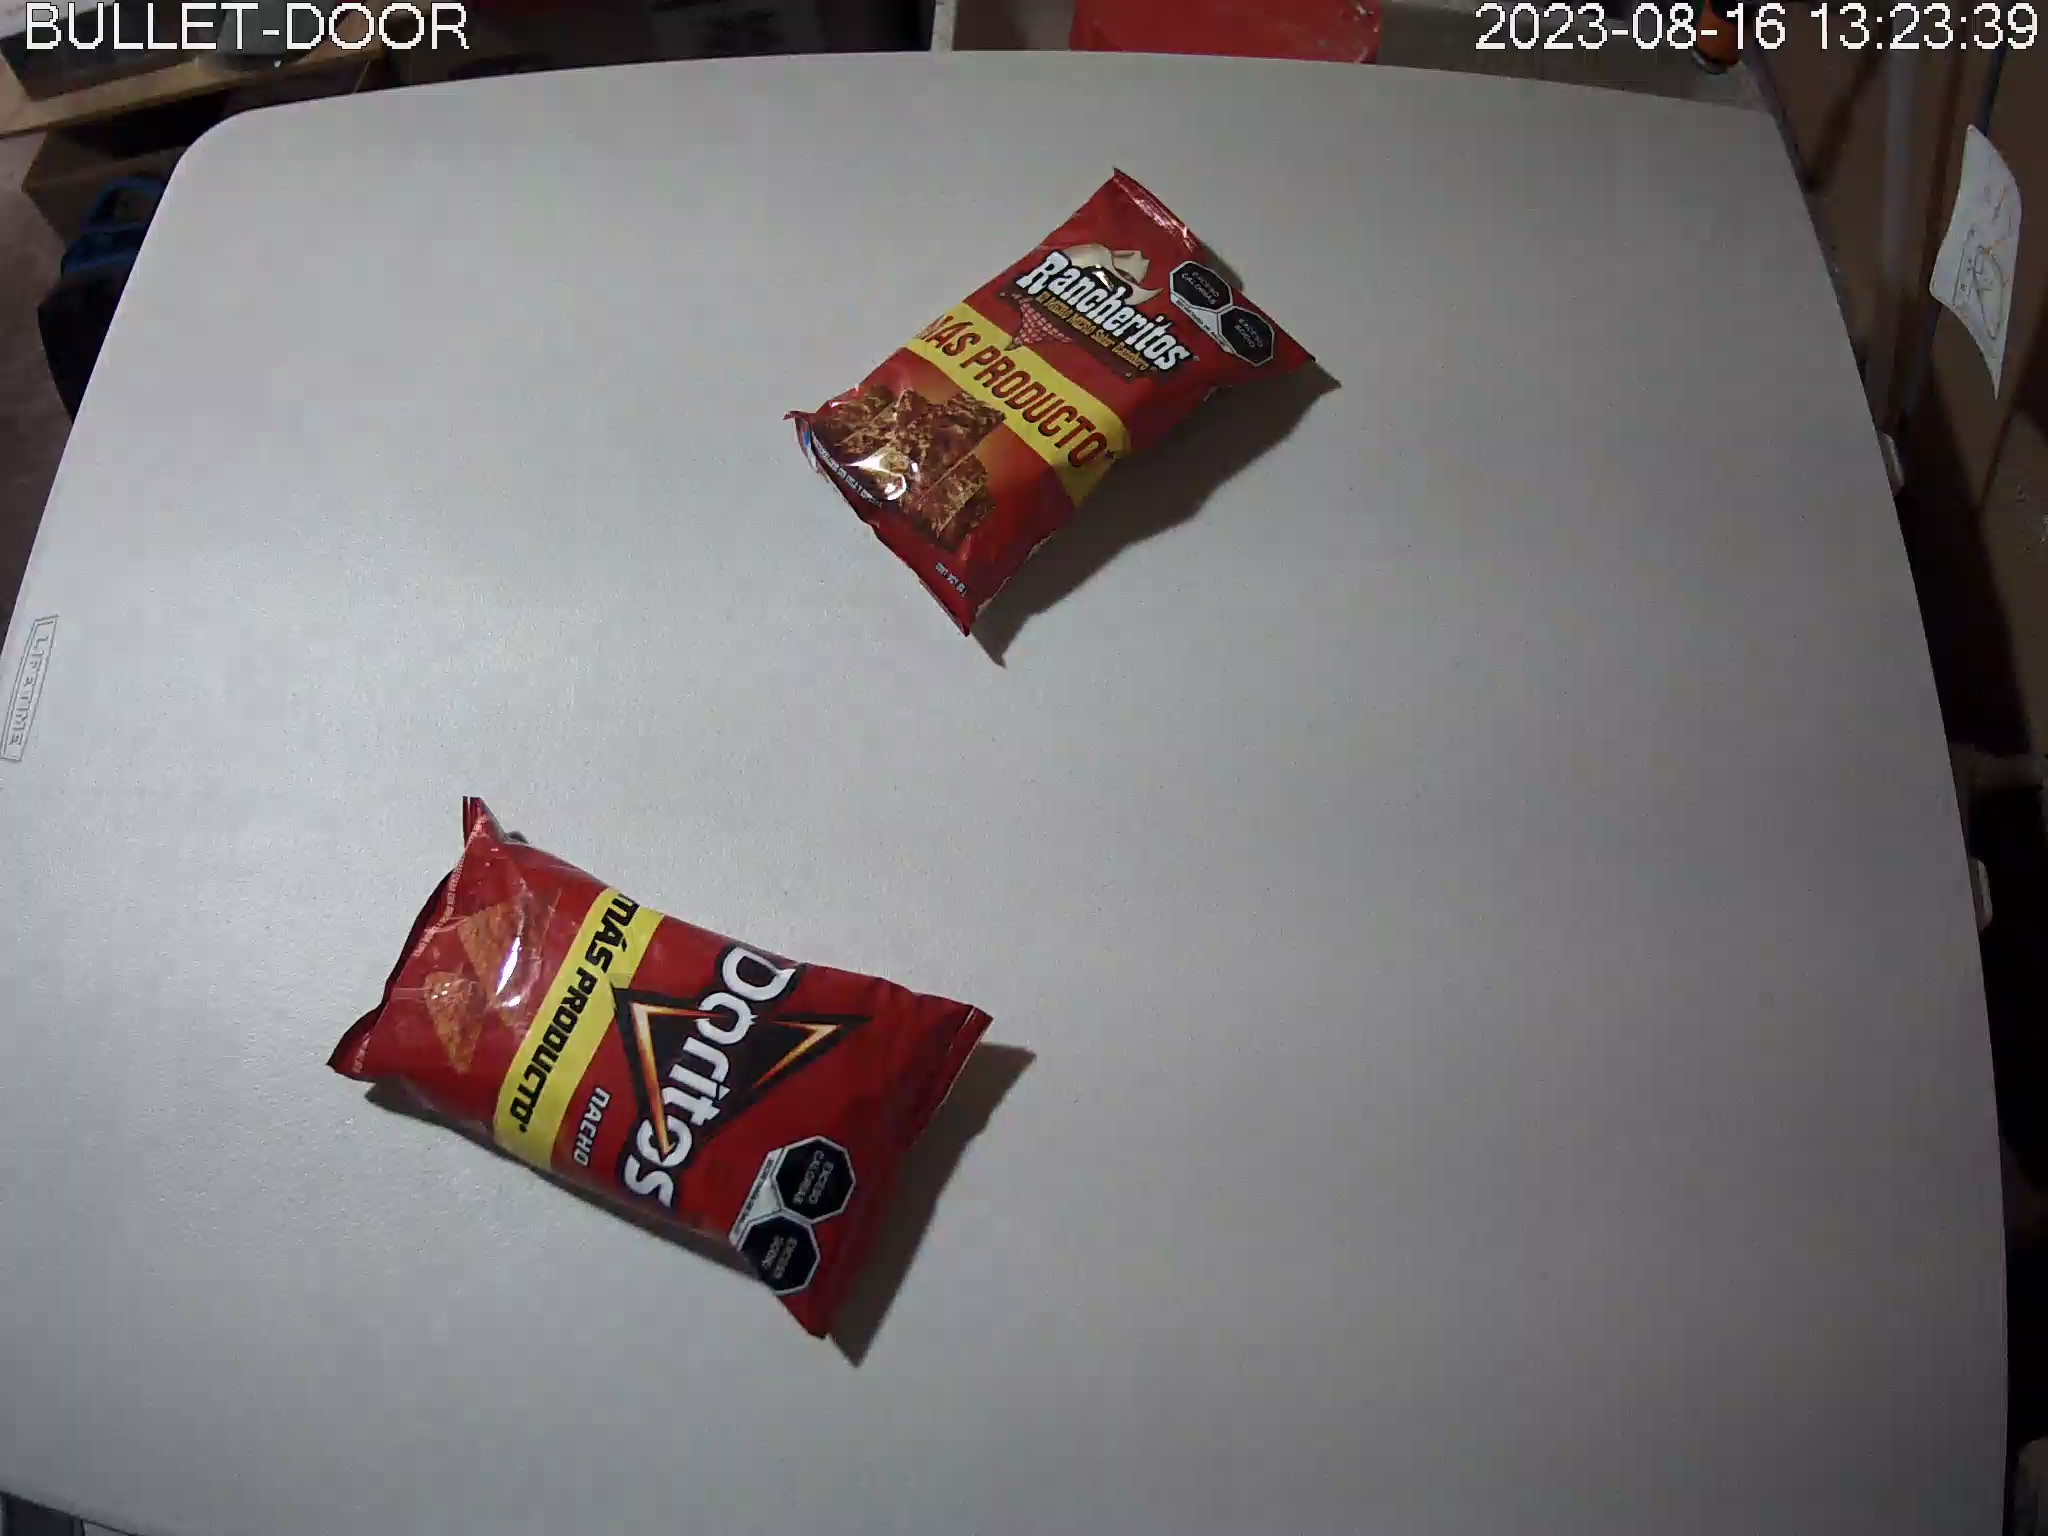DoritosN_61_F: (326, 795, 997, 1342)
Rancheritos_58_F: (780, 168, 1317, 642)
